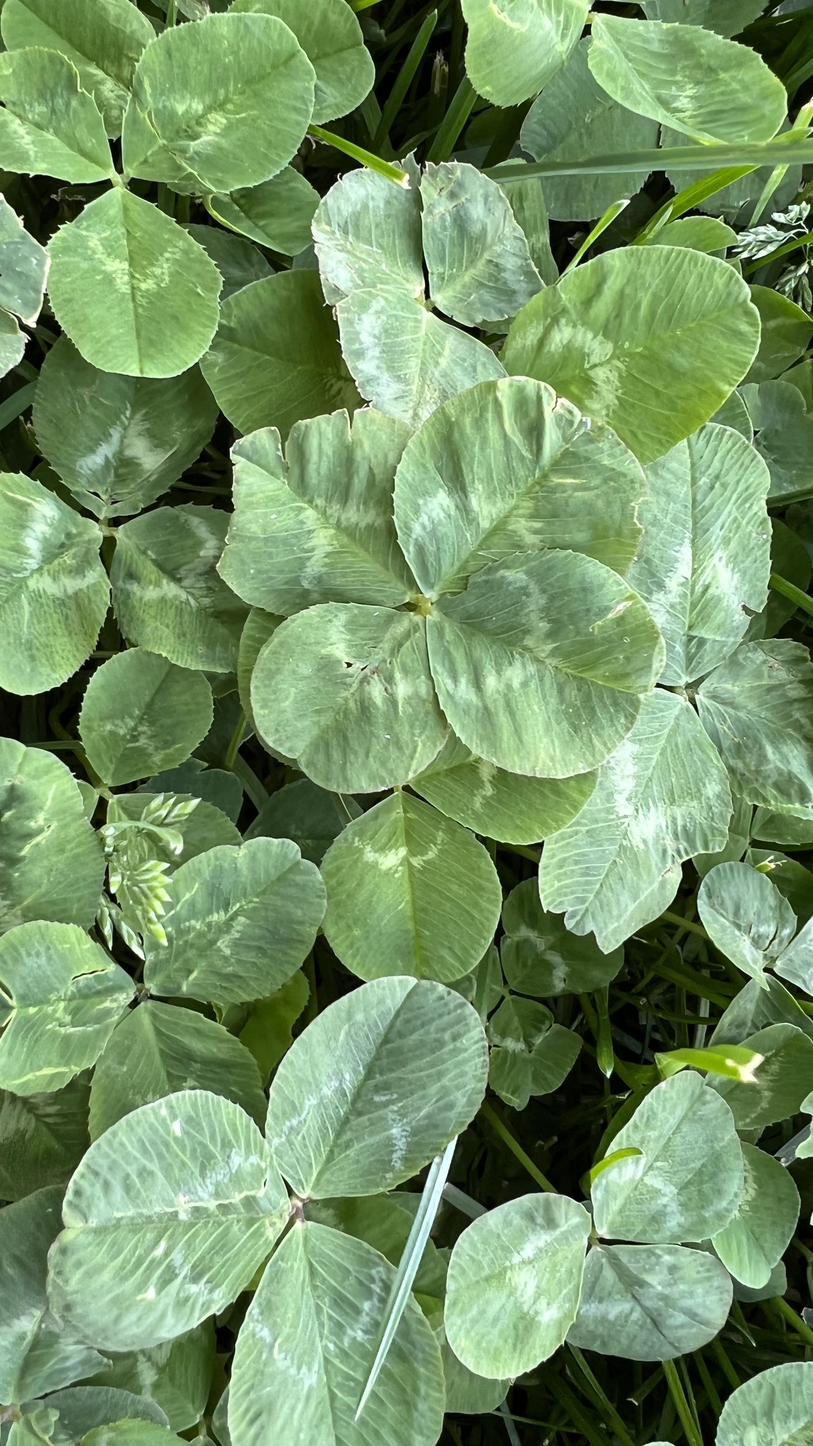4-Leaf-Clovers: (226, 377, 659, 784)
